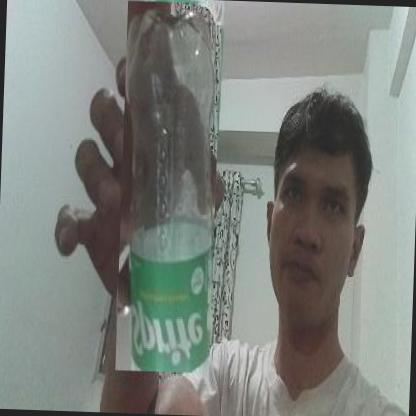plastic_bottles: (115, 2, 222, 374)
